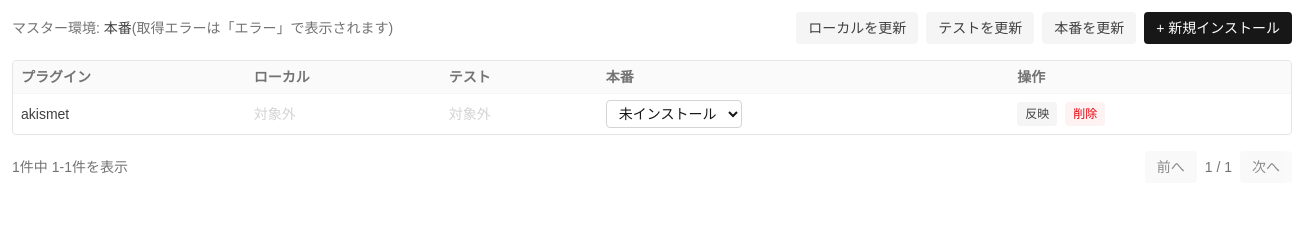
Test: PluginThemeComparisonTable › 対象外・状態が取れていない環境のセルは、変更の対象に含めない
Select "有効" in the dropdown: (674, 114) [606,100,742,128]
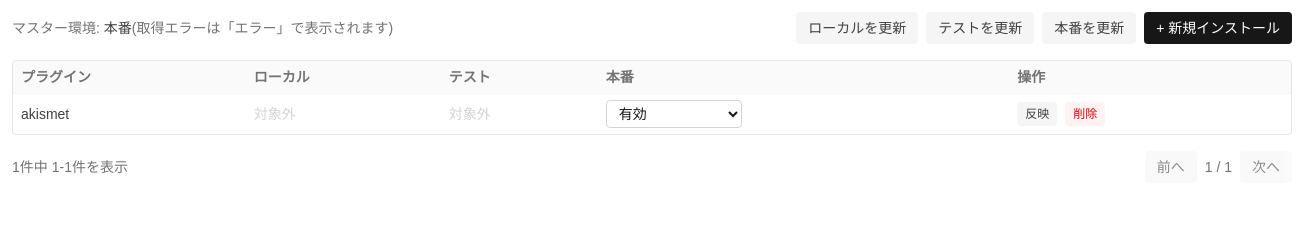
Click the button "反映": (1037, 114) [1017,102,1057,126]
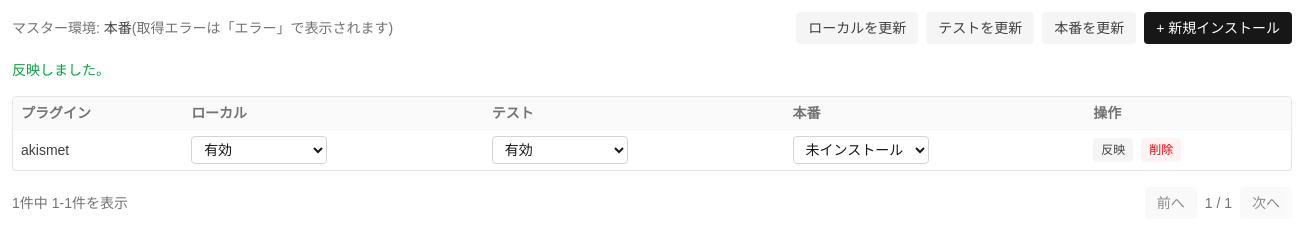
Expected: the text "反映しました。" is shown, [12,62,110,78]
